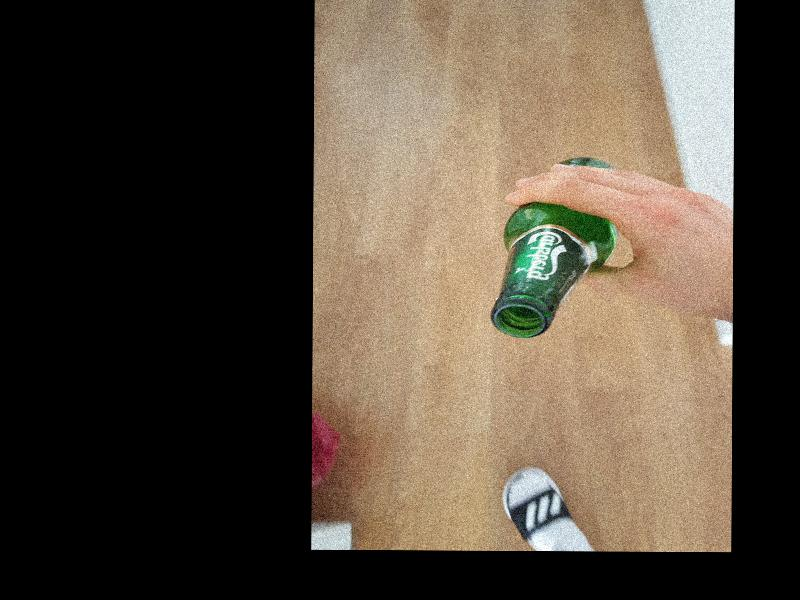Beer: (489, 157, 616, 338)
